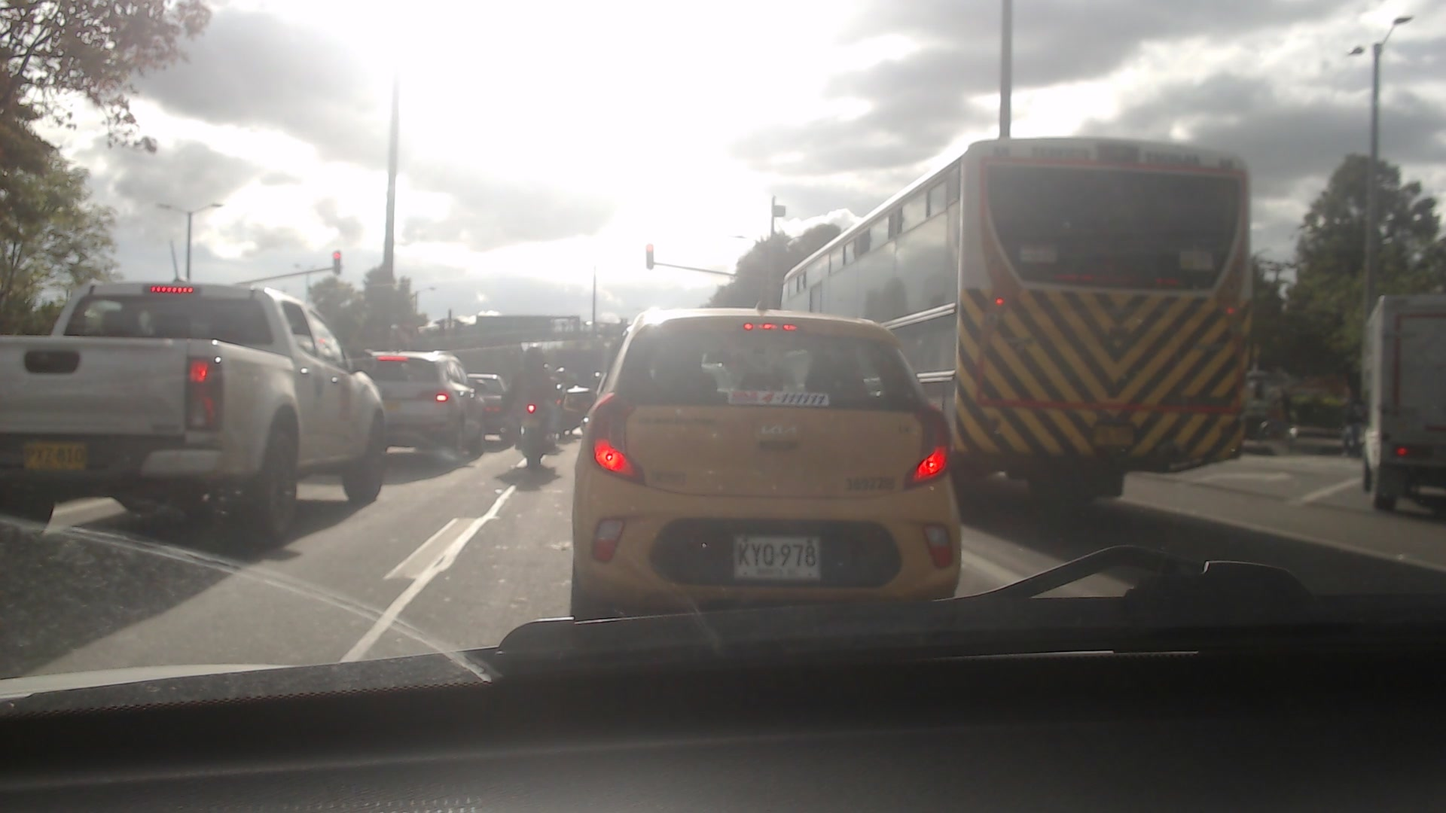bus: (757, 137, 1247, 485)
car: (571, 311, 953, 627), (0, 278, 398, 533), (357, 349, 485, 456)
motorcycle: (509, 393, 558, 470)
person: (508, 347, 560, 442)
